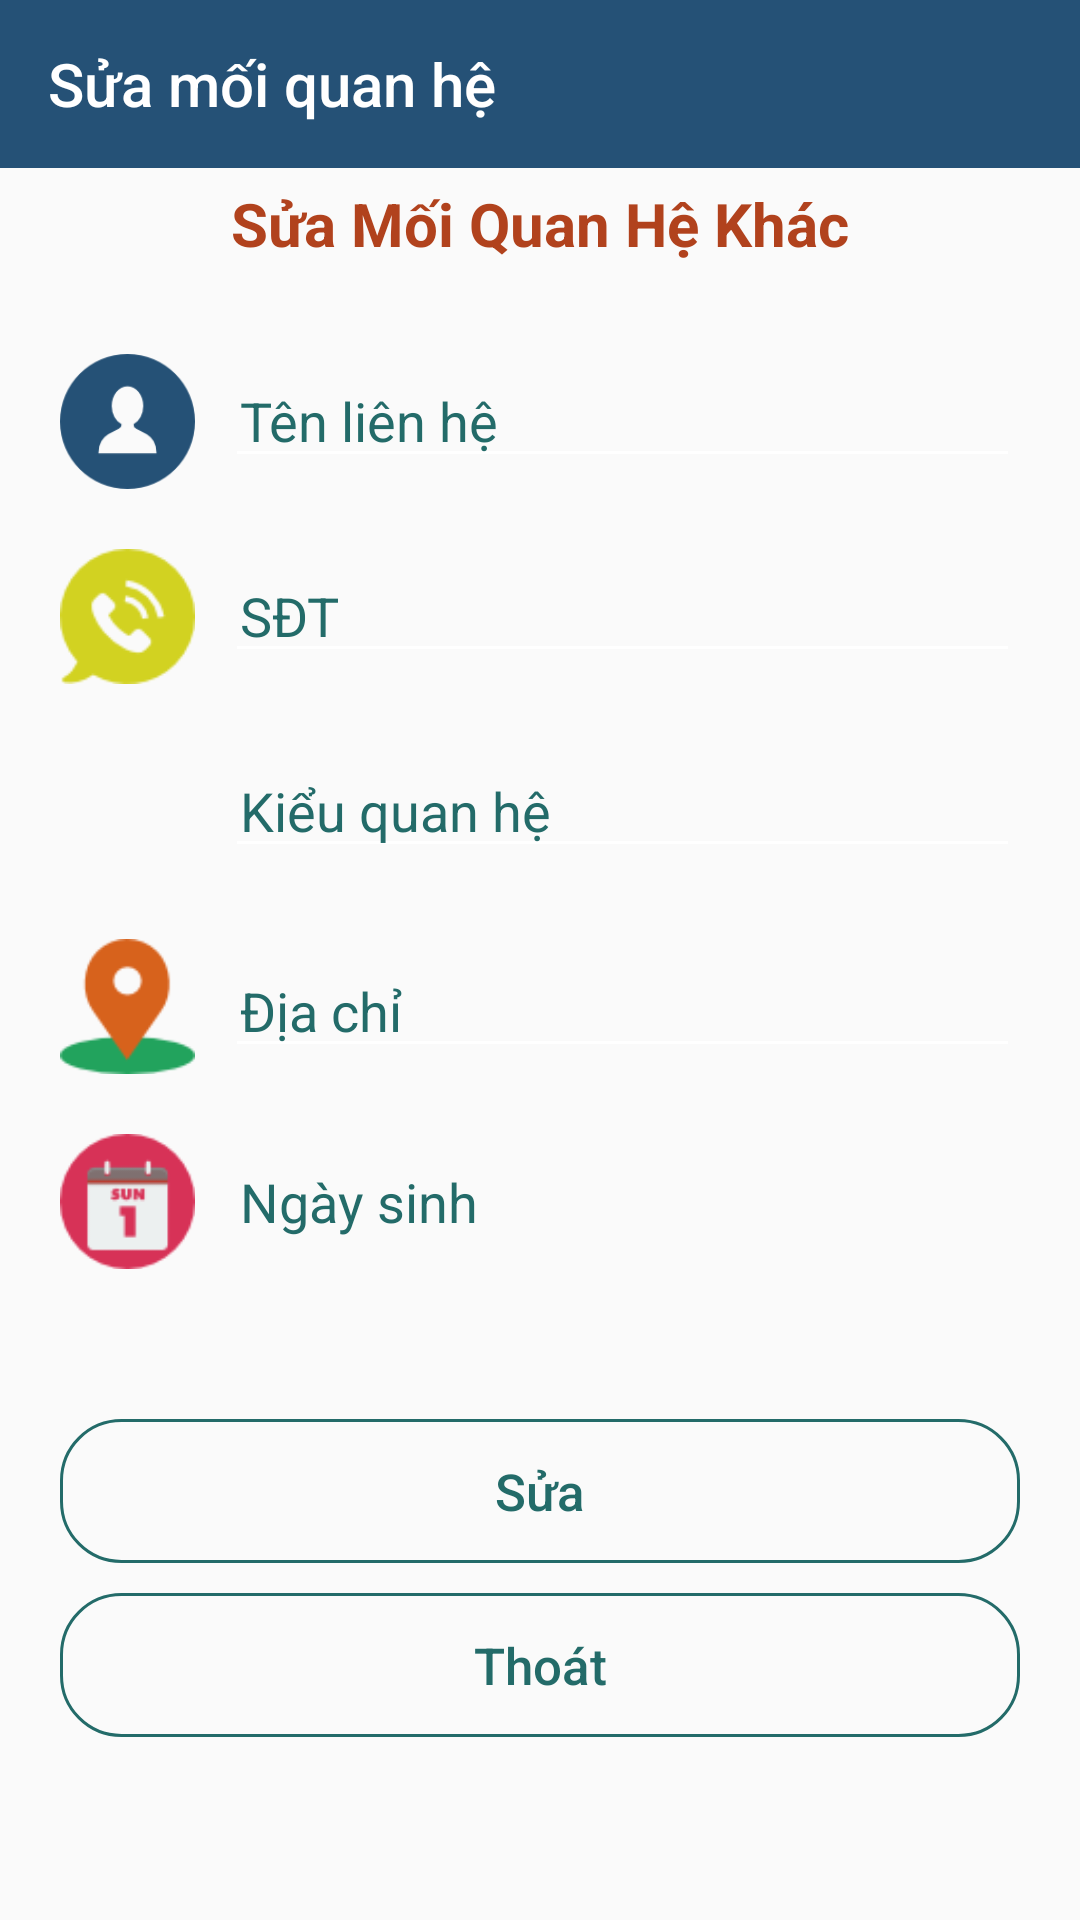

Screen size 1080*1920. Icon name, then its box in pixels as (x1, y1, x2, y2):
alendar: (60, 1134, 195, 1269)
